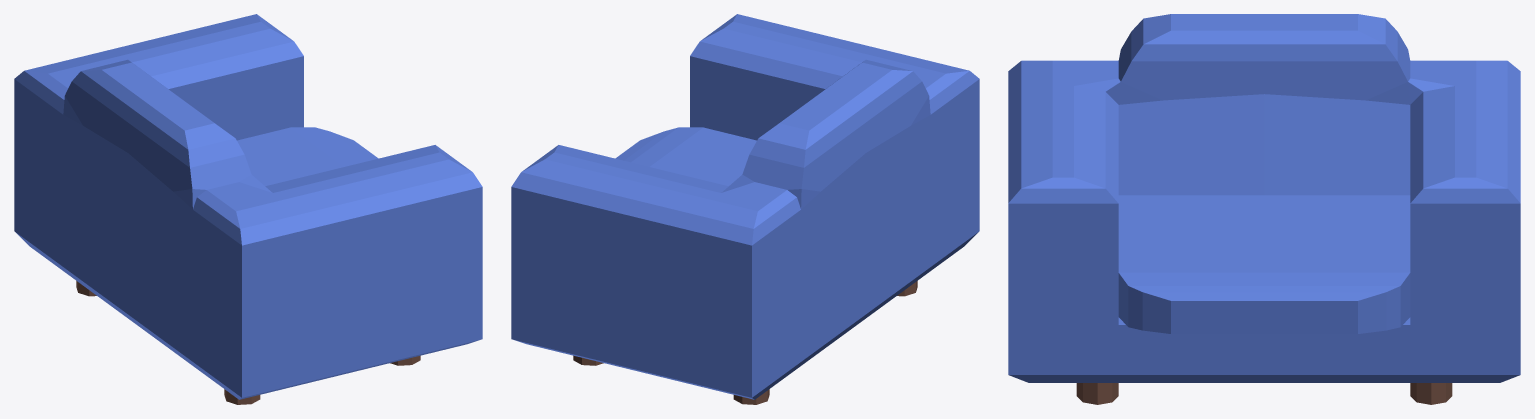
File: LoveSeat.fbx
The picture shows the model from 3 angles, left to right: view 1: azimuth 30°, elevation 25°; view 2: azimuth 150°, elevation 25°; view 3: azimuth 270°, elevation 25°; orthographic projection. The views are drawn at different scales.
Visible parts, largest first — view 1: Cube; view 2: Cube; view 3: Cube, Cylinder, Cylinder.003.
Boxes of the visible parts, box(x1,y1,x2,y2) form: Cube: box(14, 14, 482, 399); Cube: box(511, 14, 979, 399); Cube: box(1008, 14, 1520, 382); Cylinder: box(1410, 383, 1452, 404); Cylinder.003: box(1076, 383, 1118, 404).
Size of the model in its own units: 333 by 297 by 492.
